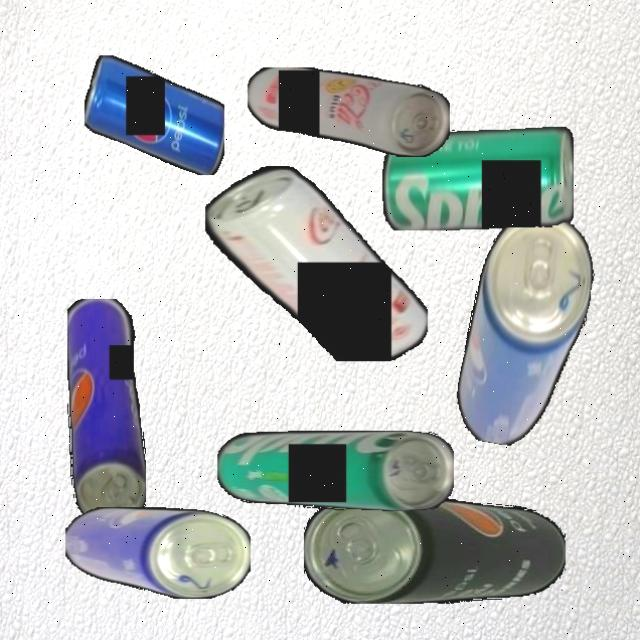debris: (204, 166, 428, 361), (450, 205, 603, 455), (304, 493, 565, 604), (382, 126, 574, 230), (216, 431, 454, 511), (246, 67, 450, 157), (66, 298, 146, 525), (64, 507, 250, 599), (84, 54, 224, 175)
